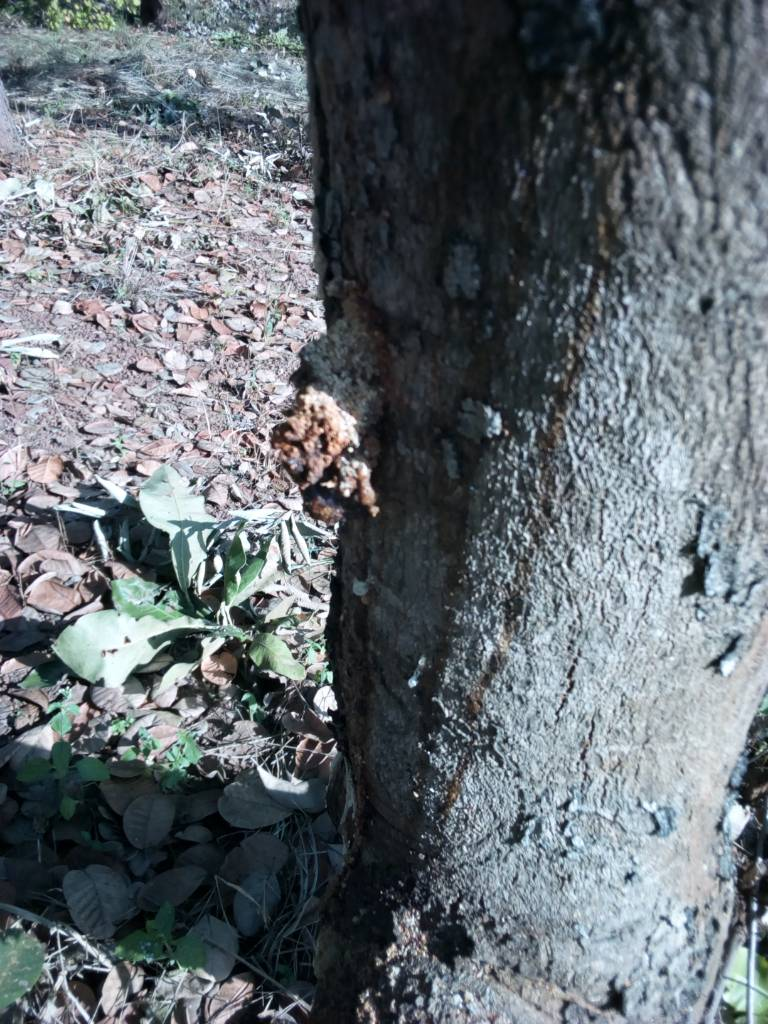Apate terebrans: (199, 324, 446, 591)
